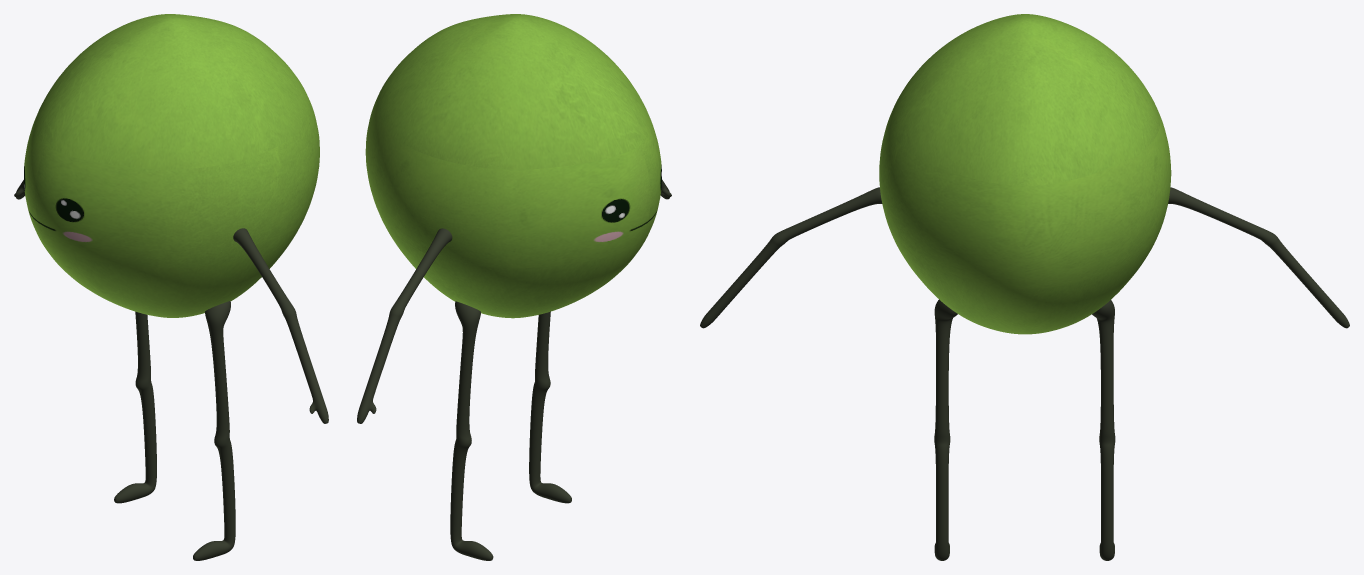
The model's file is Kim_Kiwi.dae.
The picture shows the model from 3 angles, left to right: view 1: azimuth 30°, elevation 25°; view 2: azimuth 150°, elevation 25°; view 3: azimuth 270°, elevation 25°; orthographic projection. The views are drawn at different scales.
Parts seen in each view (by area): view 1: Kiwi; view 2: Kiwi; view 3: Kiwi.
Part boxes in pixels (x1,y1,x2,y2): Kiwi: (14, 14, 328, 560); Kiwi: (357, 14, 671, 560); Kiwi: (700, 14, 1349, 560).
Bounding box in the file's own units: 1.32 × 2.35 × 2.59.
1 material, 1 textured.
